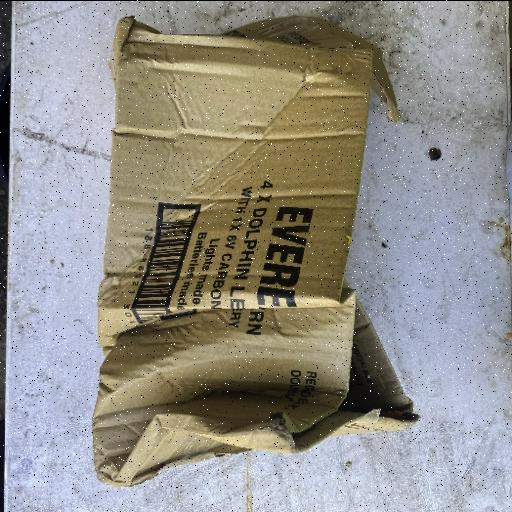Cardboard: (89, 12, 415, 488)
